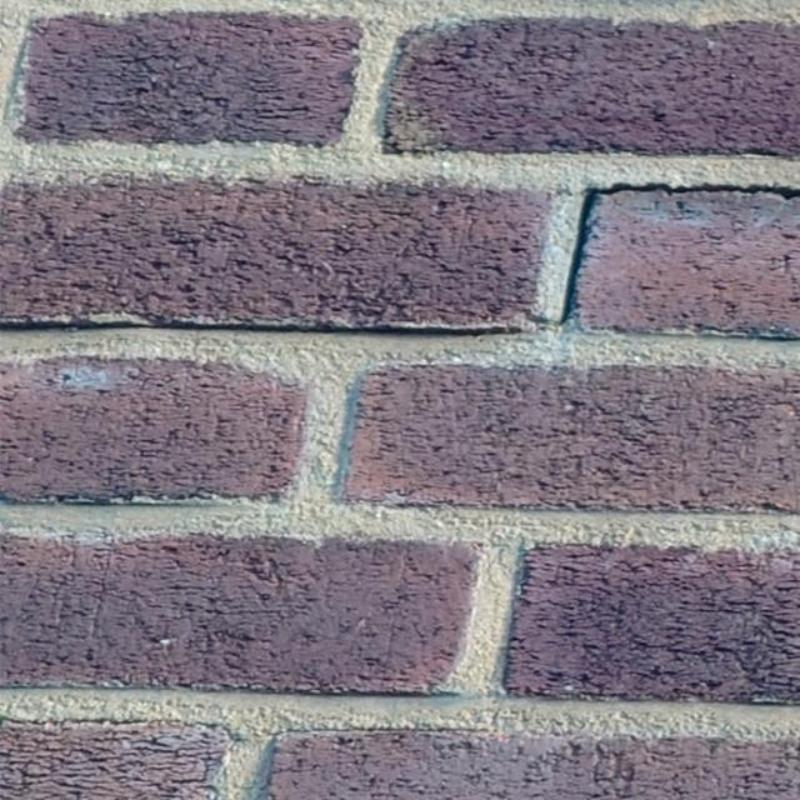pothole: (564, 181, 800, 317), (1, 320, 539, 338)
